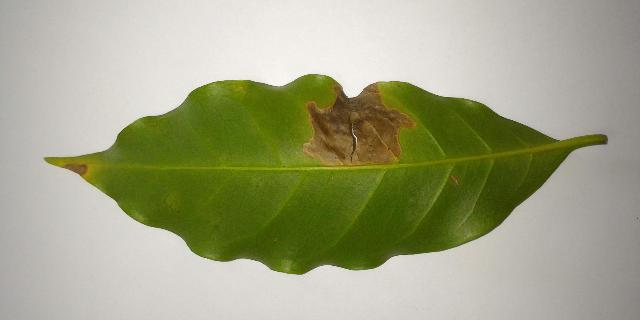cercospora: (302, 79, 417, 167), (57, 161, 94, 182), (449, 174, 460, 186)
